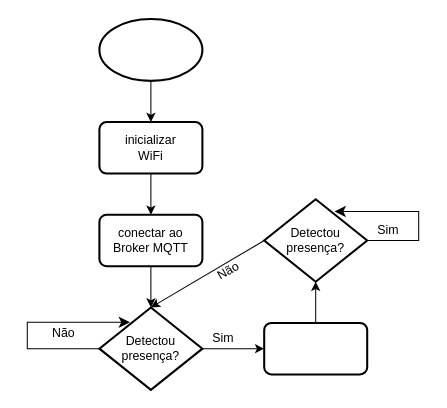
The diagram is 447 pixels wide and 408 high, and some of its shapes have lost their labels. The centre of each missing label's shape, as x and y in pixels:
inicializar sensor de distância: pixel 150 49
publica mensagem de alerta: pixel 315 348
